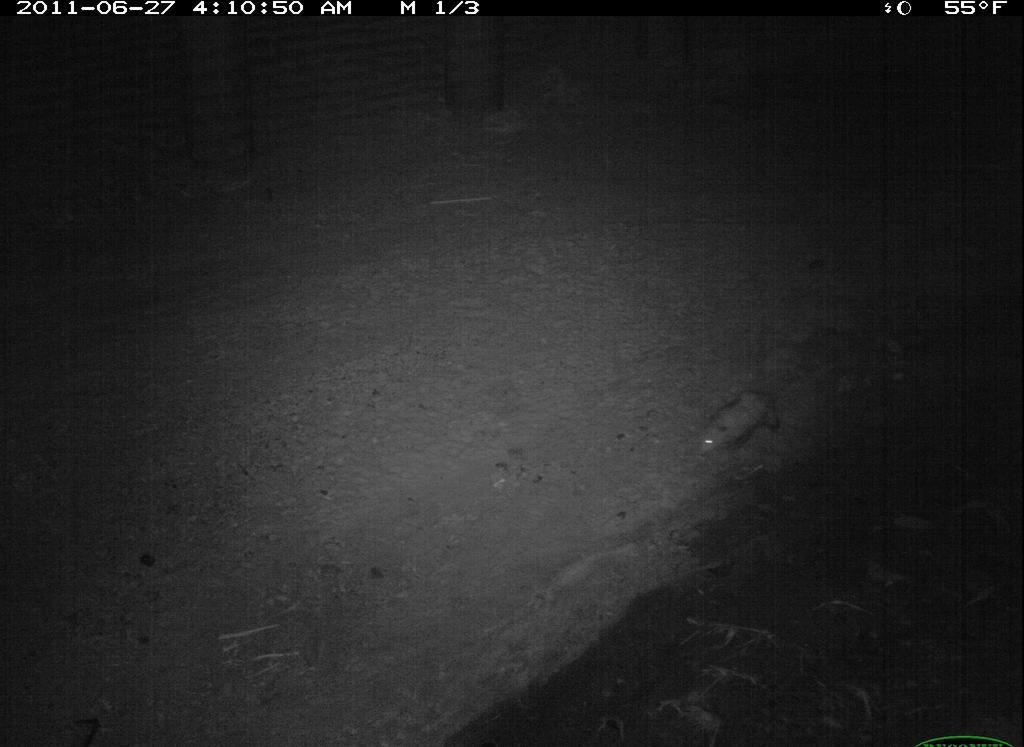opossum: (688, 378, 790, 468)
